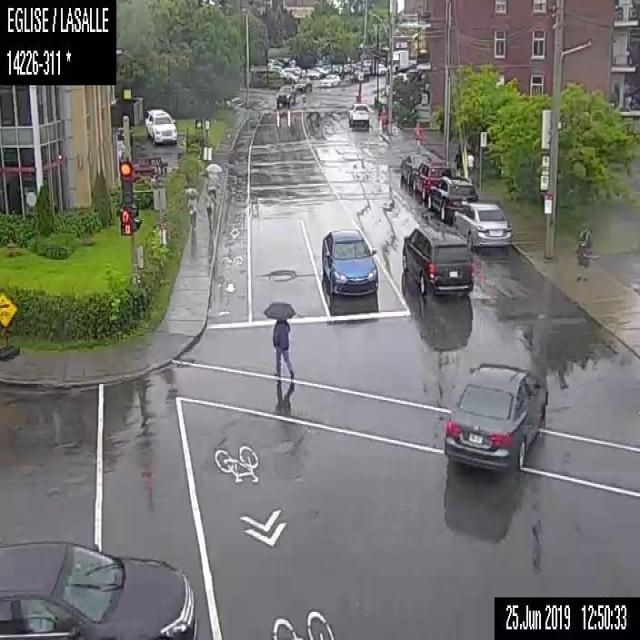pedestrian: (261, 299, 296, 381), (572, 226, 592, 282), (185, 186, 198, 233), (204, 161, 223, 193), (203, 187, 216, 231), (412, 120, 423, 152), (452, 146, 462, 173), (466, 147, 474, 180)
vehicle: (0, 538, 198, 638), (442, 360, 548, 473), (398, 224, 472, 297), (320, 225, 379, 296), (452, 198, 512, 254), (427, 175, 480, 220), (412, 158, 449, 200), (144, 107, 178, 145), (398, 149, 430, 184), (346, 102, 370, 125), (274, 84, 295, 106), (391, 47, 408, 72), (294, 76, 313, 96), (116, 125, 132, 145), (319, 73, 340, 88)
